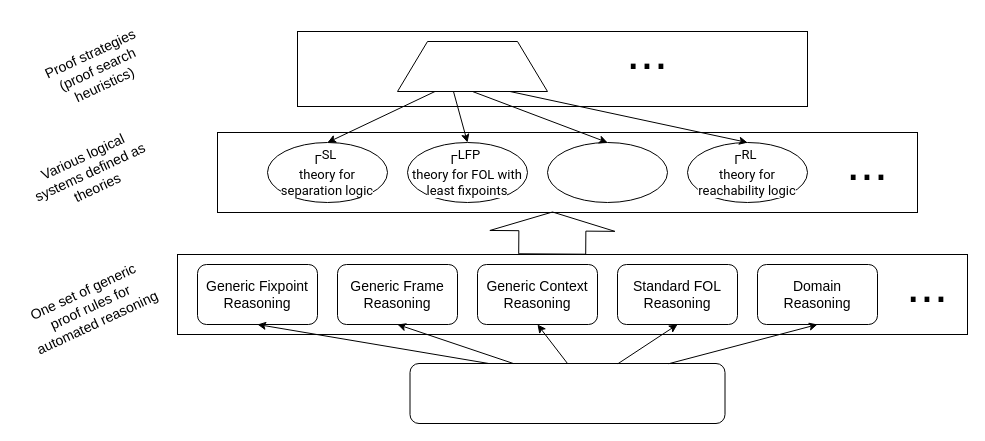
Image size: 985x441. Some labels were removed from this diagram. Each missing label, with the box of its shape:
A Base Logic: (409, 362, 725, 424)
Bounded Depth-First Search: (396, 40, 548, 92)
Γ LTL theory for linear temporal logic: (546, 142, 668, 202)
